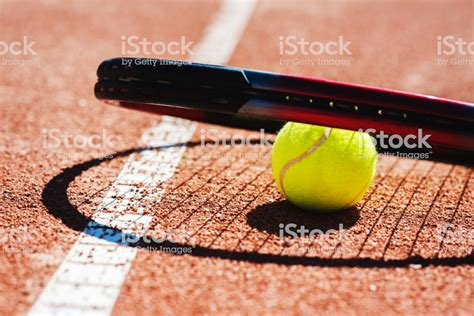tennis_ball: (270, 121, 377, 210)
